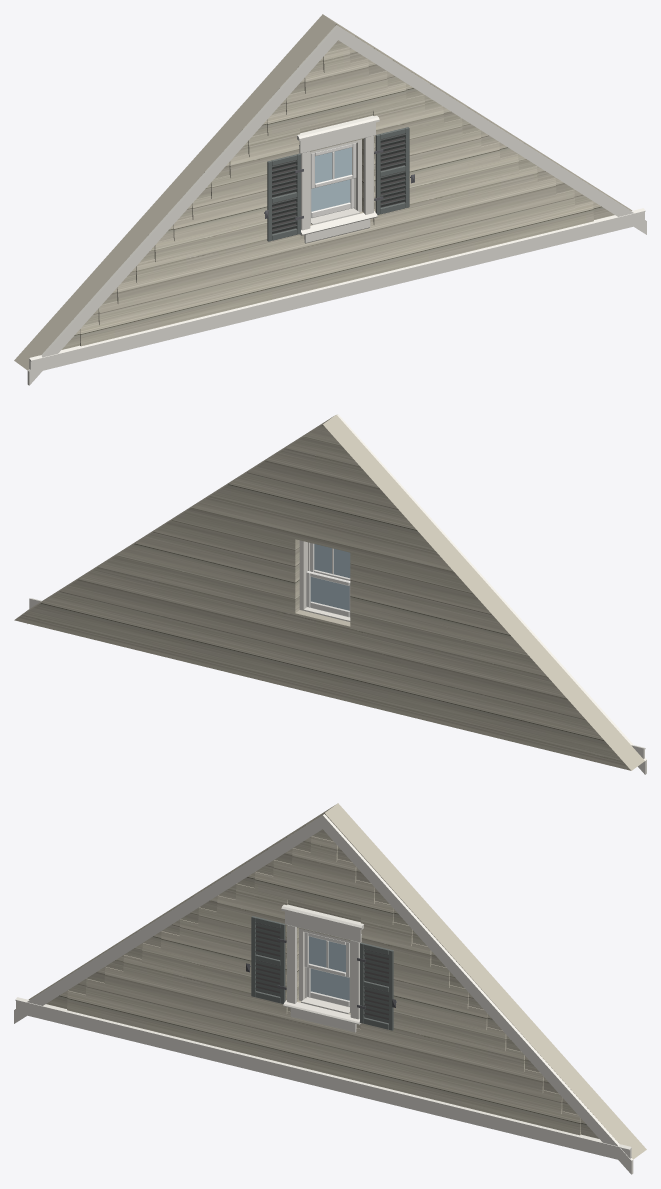
File: h_gable.glb
3 renders of one model, top to bottom at view 1: azimuth 30°, elevation 25°; view 2: azimuth 150°, elevation 25°; view 3: azimuth 330°, elevation 25°, orthographic.
Parts seen in each view (by area): view 1: h_gable_siding, h_gable_trim, h_gable_shutter, h_gable_glass, h_gable_dark, h_gable_sash, h_gable_frame; view 2: h_gable_siding, h_gable_glass, h_gable_trim, h_gable_sash, h_gable_frame; view 3: h_gable_siding, h_gable_trim, h_gable_shutter, h_gable_glass, h_gable_dark, h_gable_sash, h_gable_frame.
Part boxes in pixels (<box>): h_gable_siding: <box>14,14,632,370</box>; h_gable_trim: <box>27,25,646,385</box>; h_gable_shutter: <box>267,127,409,241</box>; h_gable_glass: <box>311,147,351,211</box>; h_gable_dark: <box>272,133,404,234</box>; h_gable_sash: <box>311,143,356,217</box>; h_gable_frame: <box>310,139,361,223</box>; h_gable_siding: <box>14,414,644,770</box>; h_gable_glass: <box>310,544,350,610</box>; h_gable_trim: <box>29,414,646,774</box>; h_gable_sash: <box>306,543,350,617</box>; h_gable_frame: <box>299,540,309,610</box>; h_gable_siding: <box>28,803,646,1159</box>; h_gable_trim: <box>14,814,633,1174</box>; h_gable_shutter: <box>251,916,393,1030</box>; h_gable_glass: <box>309,936,349,1000</box>; h_gable_dark: <box>256,922,388,1023</box>; h_gable_sash: <box>304,932,349,1006</box>; h_gable_frame: <box>299,928,350,1012</box>.
Bounding box in the file's own units: 7.86 × 3.47 × 0.388.
8 materials, 1 textured.
